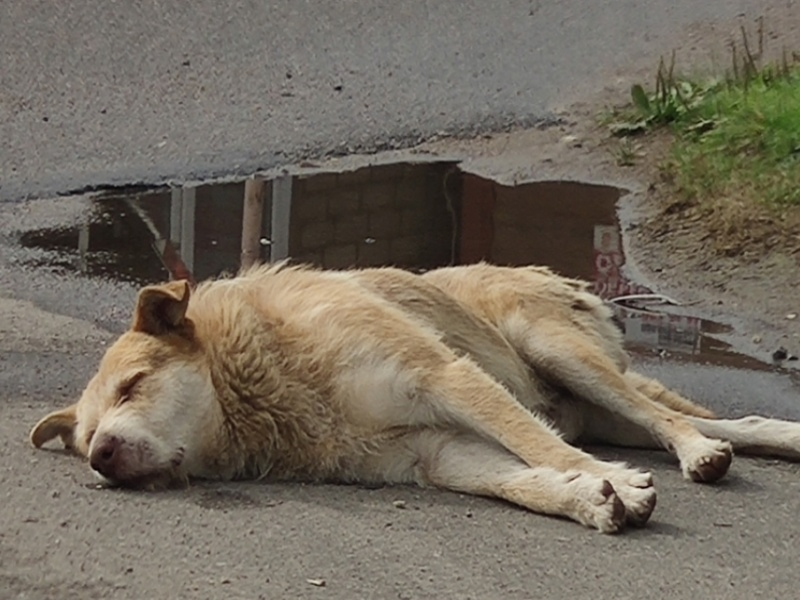dog: (23, 253, 795, 538)
